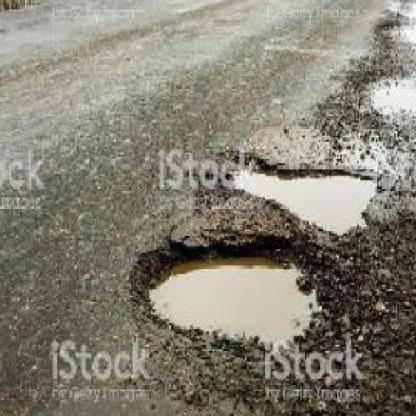pothole: (124, 225, 355, 366), (220, 148, 381, 233), (363, 70, 416, 121), (376, 16, 416, 46), (386, 0, 416, 17)
